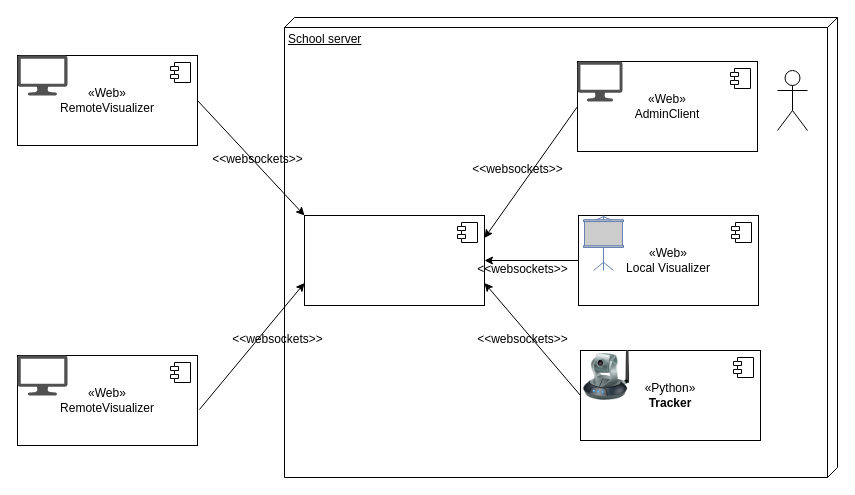
Some shapes in this 855 by 495 pixel diagram are drawn without their labels. Each missing label, with the box of its shape:
Teacher: (776, 70, 808, 130)
«Node.JS» CollaborationServer: (304, 214, 484, 306)
